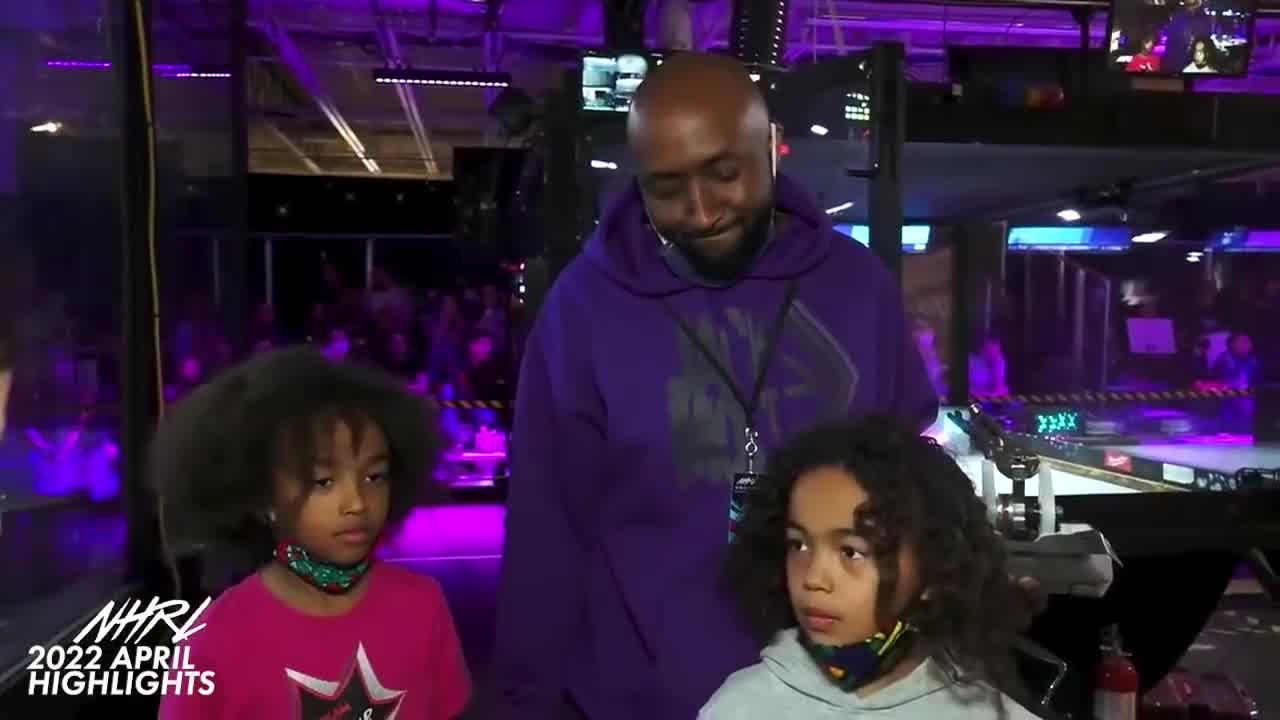combatbot: (974, 521, 1121, 601)
